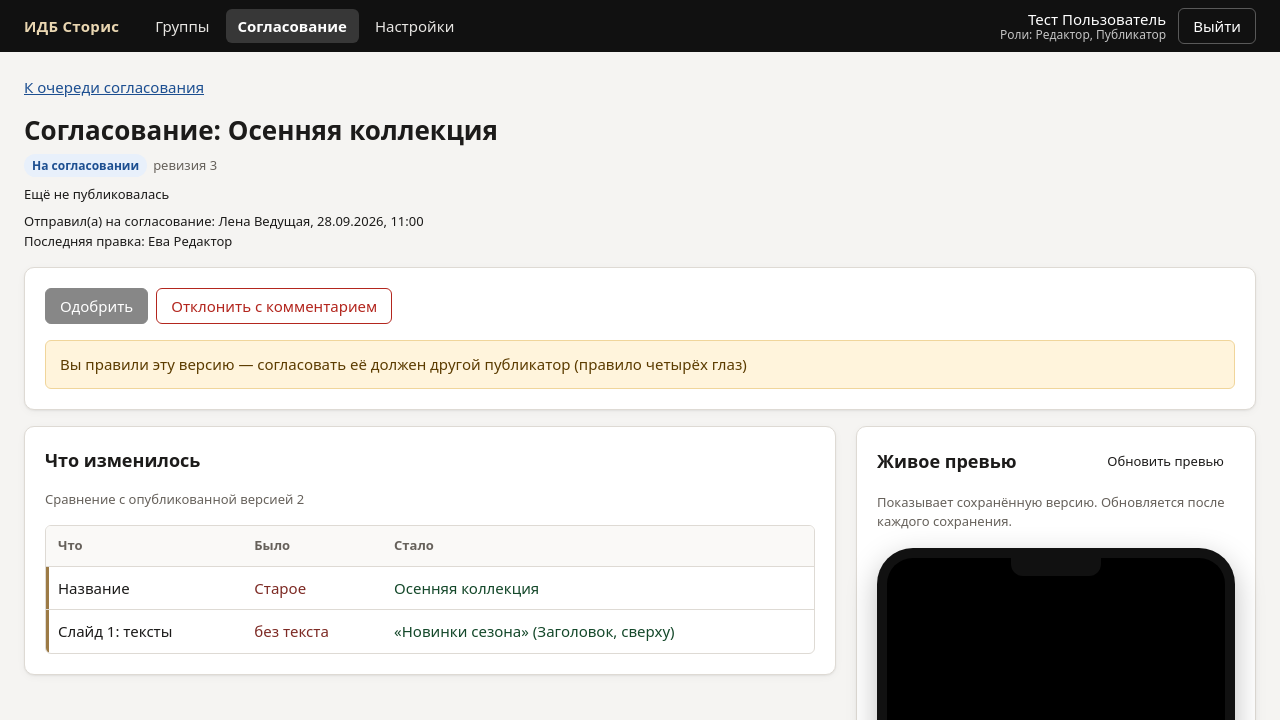
Test: Экран согласования › отклонение требует комментарий
The image size is (1280, 720).
Click the button "Отклонить с комментарием". click: (274, 306)
box: [156,288,392,324]
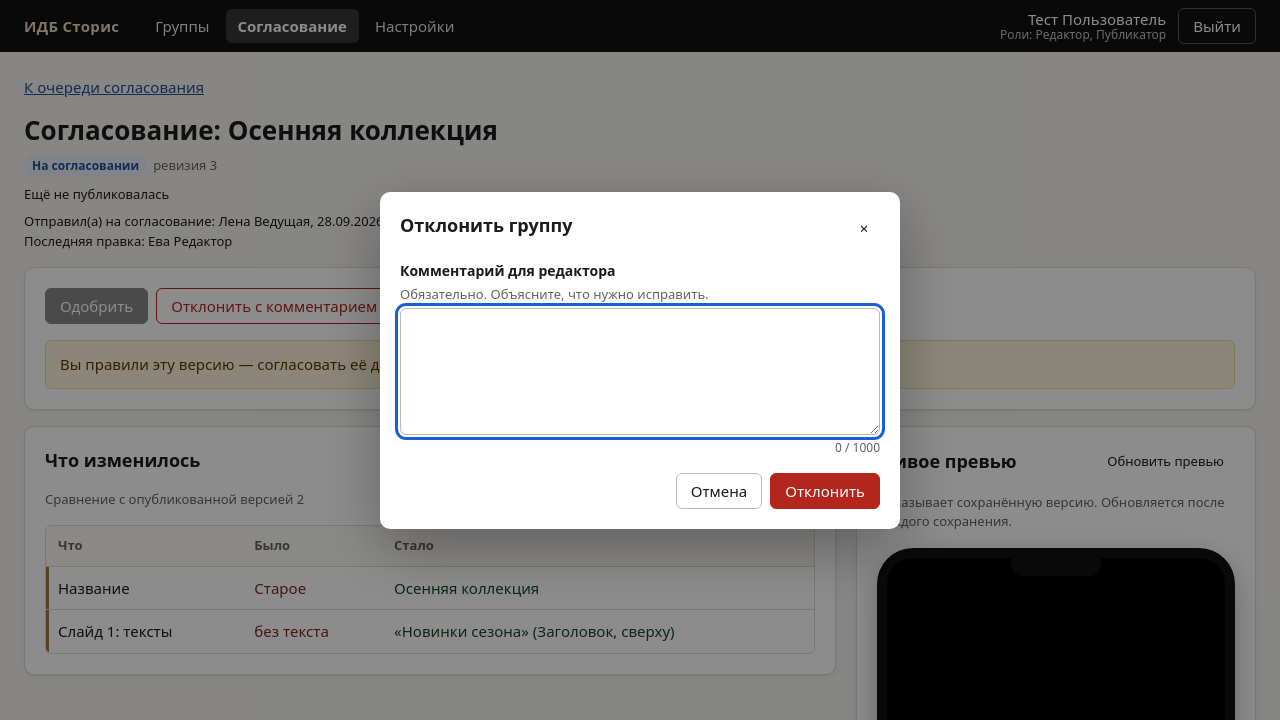
Click the button "Отклонить". click: (825, 490)
box: [770,472,880,508]
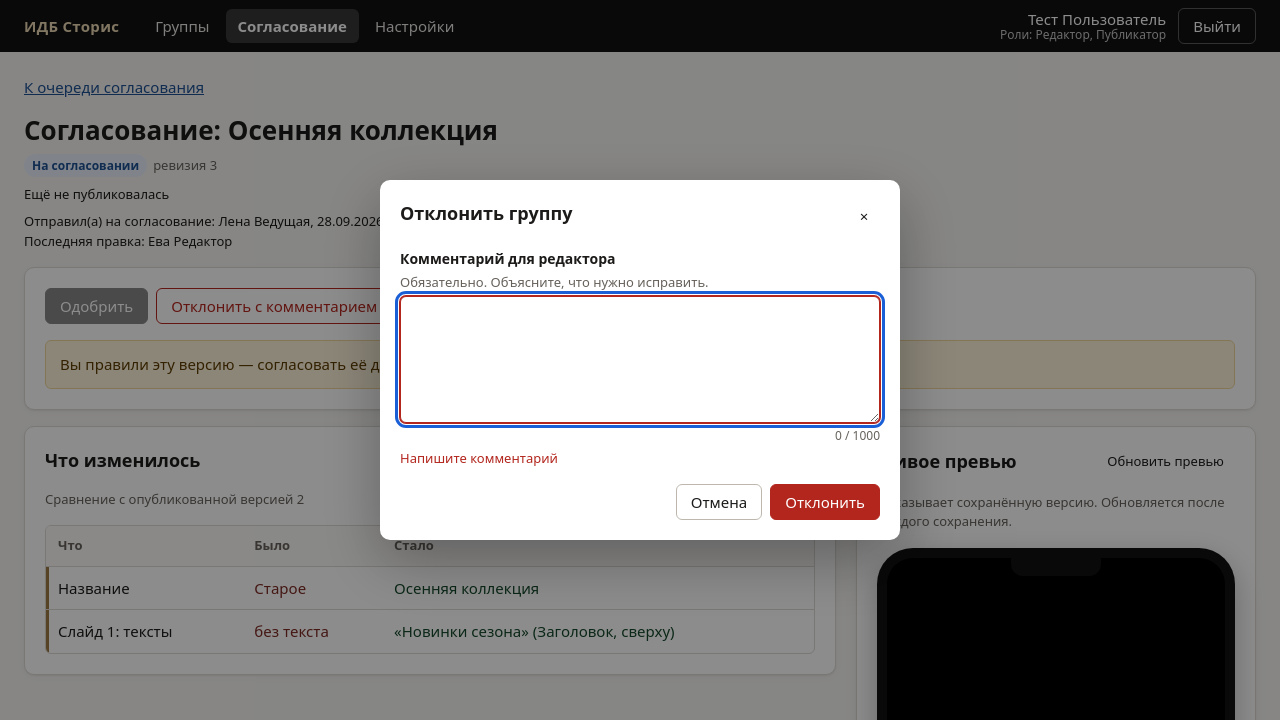
Expected: the message reads "Напишите комментарий", [400,449,558,467]
Type "Поменяйте обложку" into the text box labelled "Комментарий для редактора". click: (640, 360)
box: [400,296,880,423]
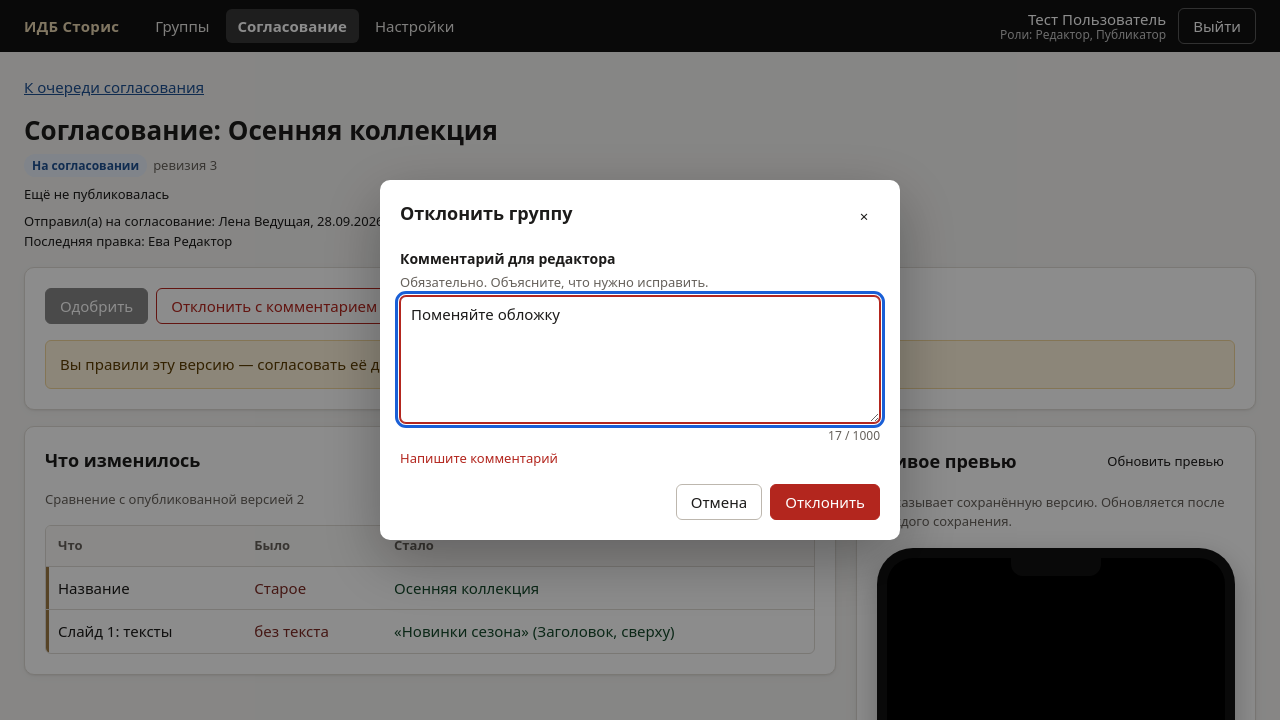
Click the button "Отклонить". click: (825, 502)
box: [770,484,880,520]
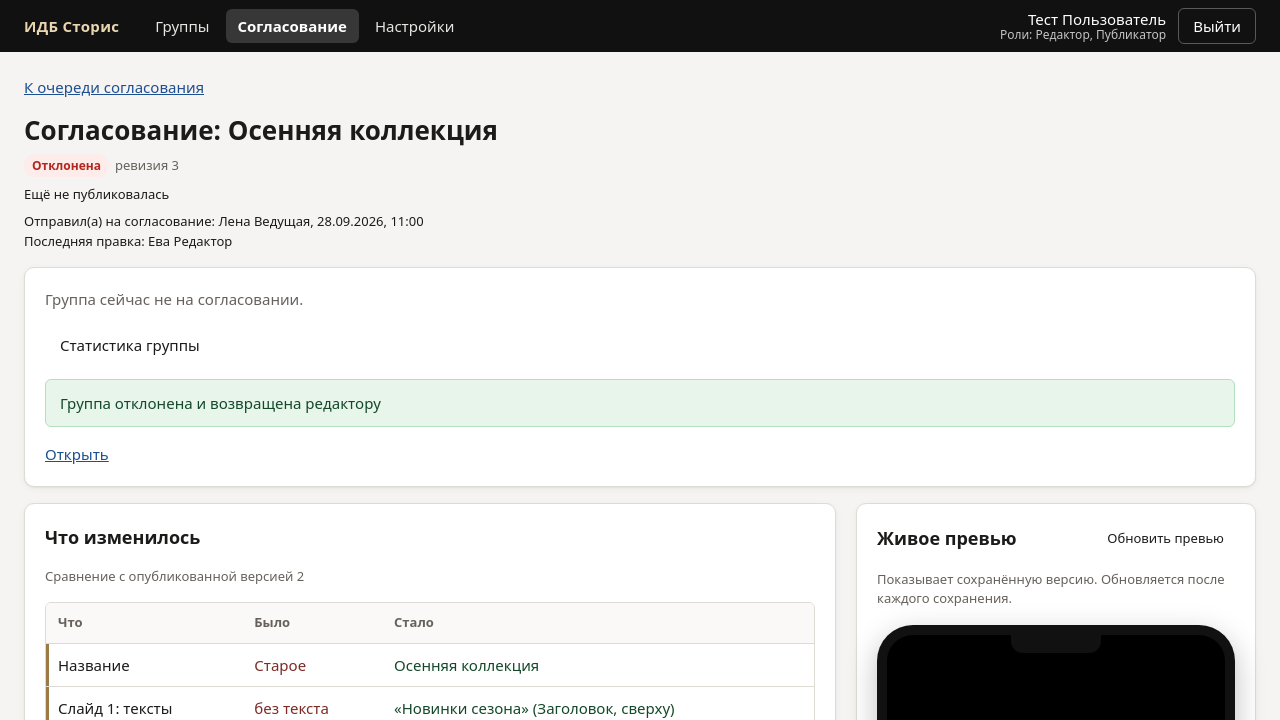
Expected: the dialog is gone
